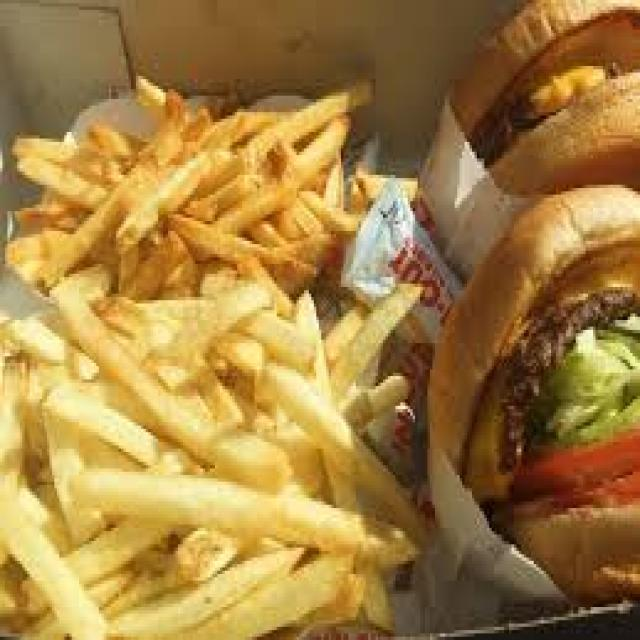Burger: (415, 0, 638, 607)
French Fries: (0, 34, 411, 640)
